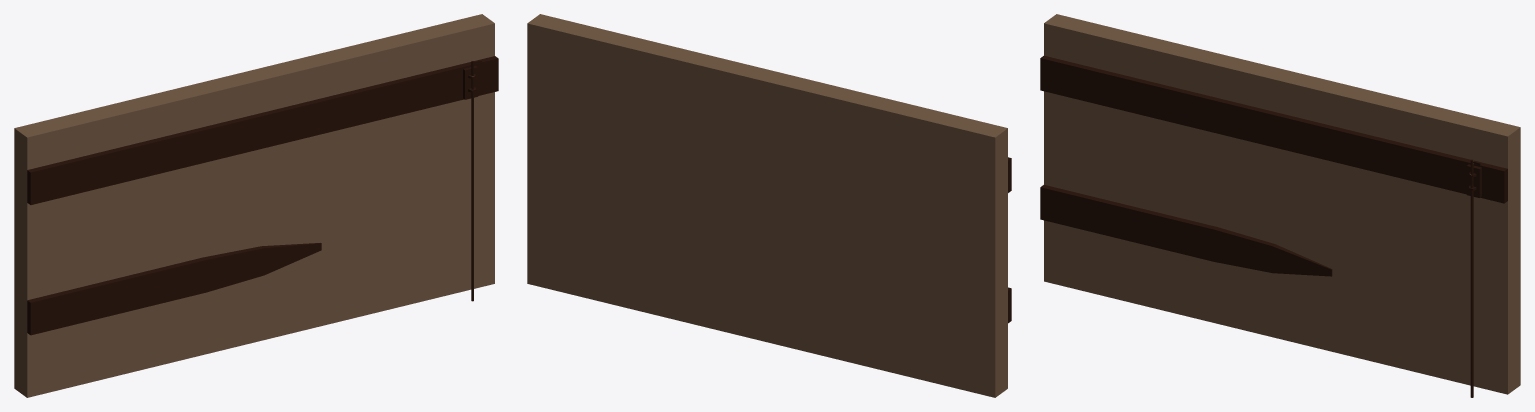
Rendered from Cancelletto.fbx.
3 renders of one model, left to right at view 1: azimuth 30°, elevation 25°; view 2: azimuth 150°, elevation 25°; view 3: azimuth 330°, elevation 25°, orthographic.
Visible parts, largest first — view 1: Cube.018; view 2: Cube.018; view 3: Cube.018.
Boxes of the visible parts, <box> form: Cube.018: <box>14,14,498,397</box>; Cube.018: <box>527,14,1011,397</box>; Cube.018: <box>1040,14,1520,397</box>.
Size of the model in its own units: 254 by 137 by 19.55.
